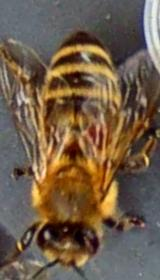varroa_mite: (76, 112, 111, 151)
